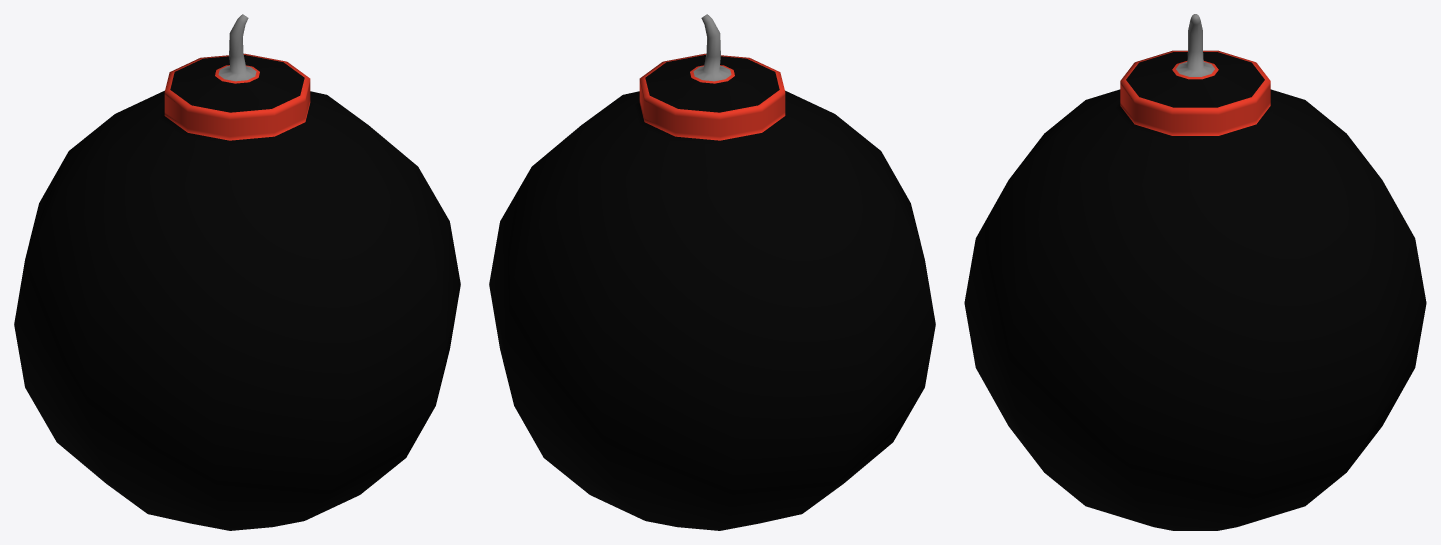
File: Bomb.fbx
3 views of the same model, side by side, from view 1: azimuth 30°, elevation 25°; view 2: azimuth 150°, elevation 25°; view 3: azimuth 270°, elevation 25° (orthographic).
Parts seen in each view (by area): view 1: Bombe; view 2: Bombe; view 3: Bombe.
Boxes of the visible parts, <box> form: Bombe: <box>14,14,460,530</box>; Bombe: <box>489,14,935,530</box>; Bombe: <box>964,14,1426,530</box>.
Size of the model in its own units: 95.11 by 120 by 100.
